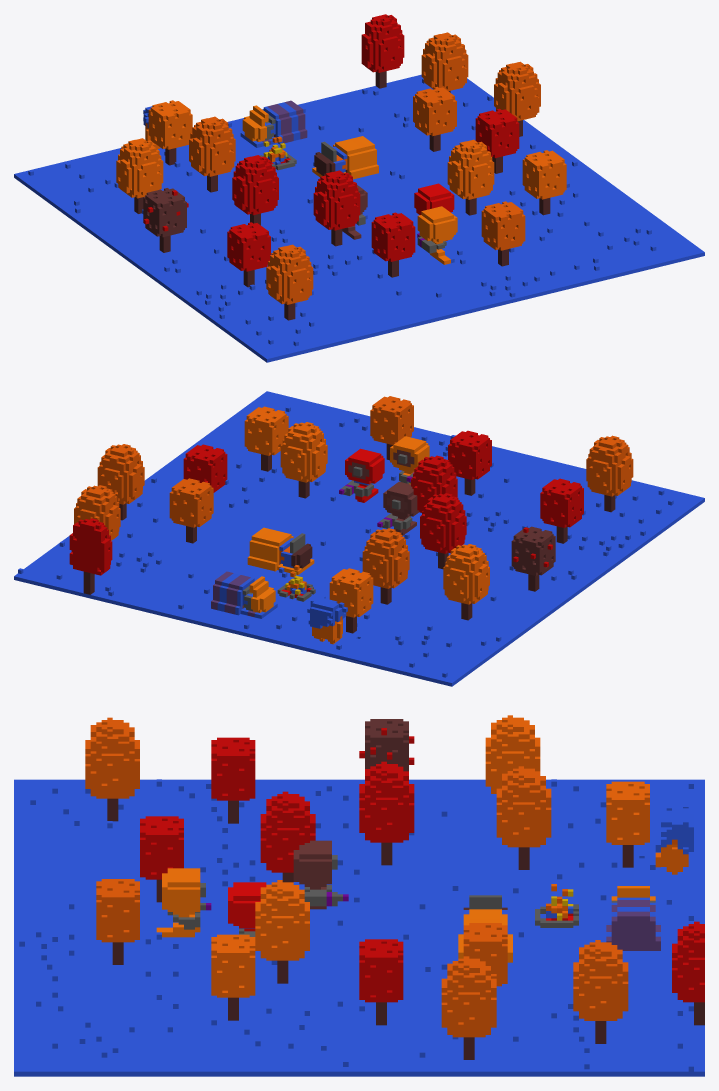
Rendered from scene_hunt.obj.
The picture shows the model from 3 angles, top to bottom: view 1: azimuth 30°, elevation 25°; view 2: azimuth 150°, elevation 25°; view 3: azimuth 270°, elevation 25°; orthographic projection. The views are drawn at different scales.
Size of the model in its own units: 126 by 20 by 126.
